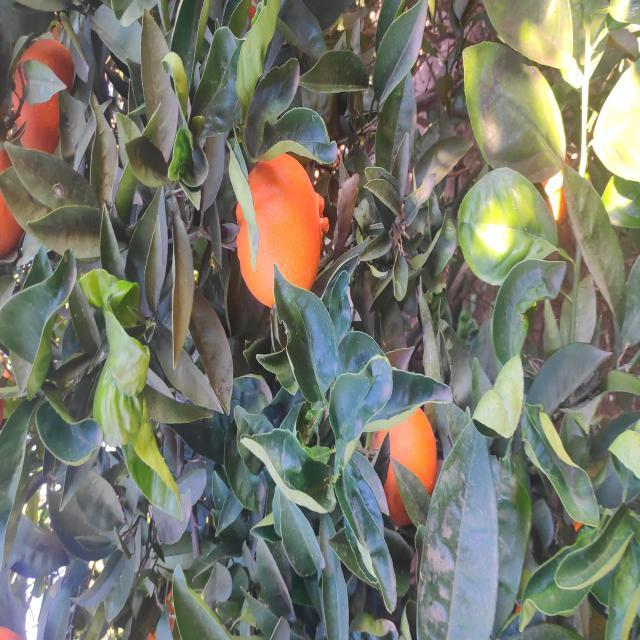Jeruk Sudah Matang: (335, 235, 490, 322), (111, 366, 238, 436), (484, 12, 602, 74), (381, 0, 499, 23)
